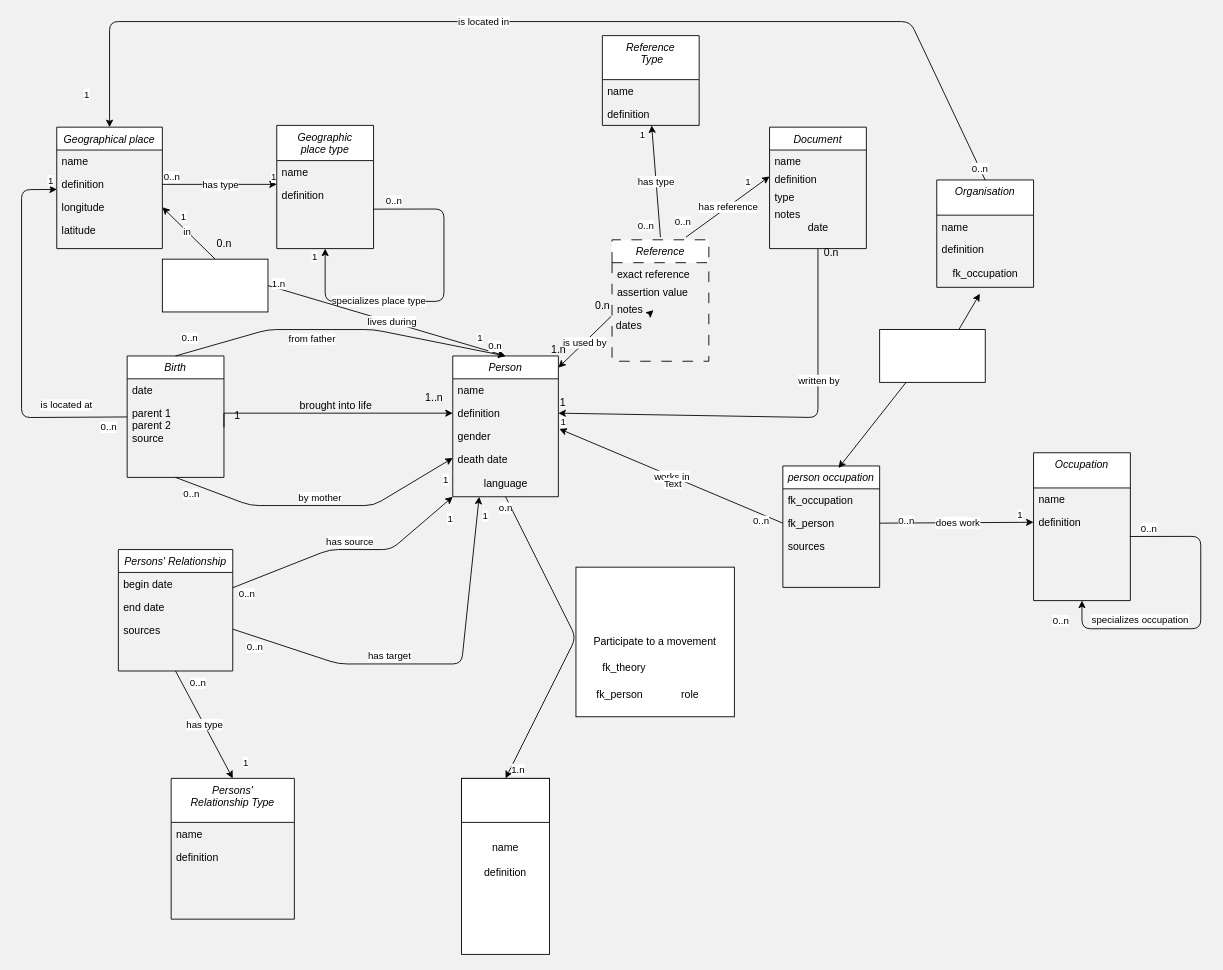
Some shapes in this 1223 by 970 pixel diagram are drawn without their labels. Here are the shapes that lost their labels. From the top down, the centre of each, then its label:
At [214,285]: "Place of life Move in date move out date".
At [932,355]: "membership".
At [505,799]: "Theory".
